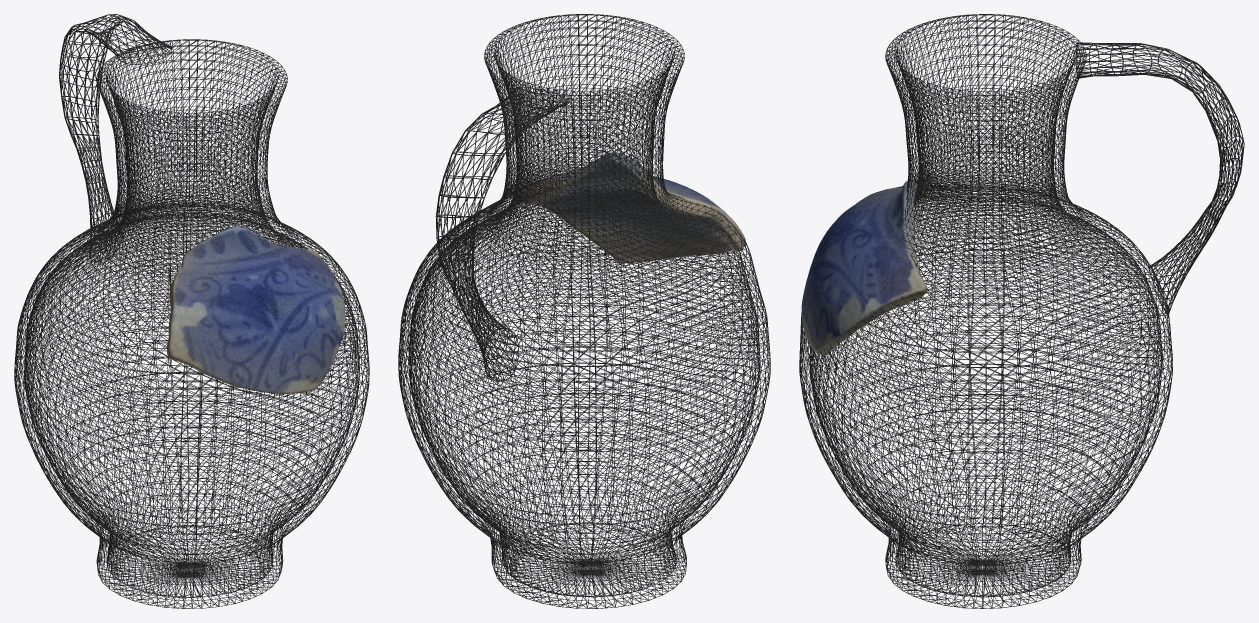
Rendered from jarron.glb.
3 views of the same model, side by side, from view 1: azimuth 30°, elevation 25°; view 2: azimuth 150°, elevation 25°; view 3: azimuth 270°, elevation 25° (orthographic). The views are drawn at different scales.
Parts seen in each view (by area): view 1: reconstruccion, fotogrametria; view 2: reconstruccion, fotogrametria; view 3: reconstruccion, fotogrametria.
Boxes of the visible parts, x1=… form: reconstruccion: x1=14, y1=14, x2=369, y2=608; fotogrametria: x1=167, y1=225, x2=345, y2=393; reconstruccion: x1=398, y1=14, x2=770, y2=608; fotogrametria: x1=518, y1=152, x2=745, y2=263; reconstruccion: x1=799, y1=14, x2=1244, y2=608; fotogrametria: x1=801, y1=181, x2=927, y2=354.
Bounding box in the file's own units: 3.98 × 6.12 × 4.74.
2 materials, 1 textured.
